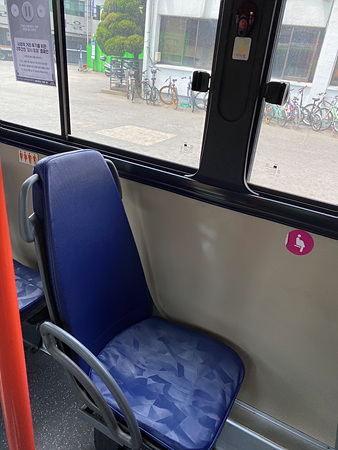seat: (22, 149, 246, 446)
